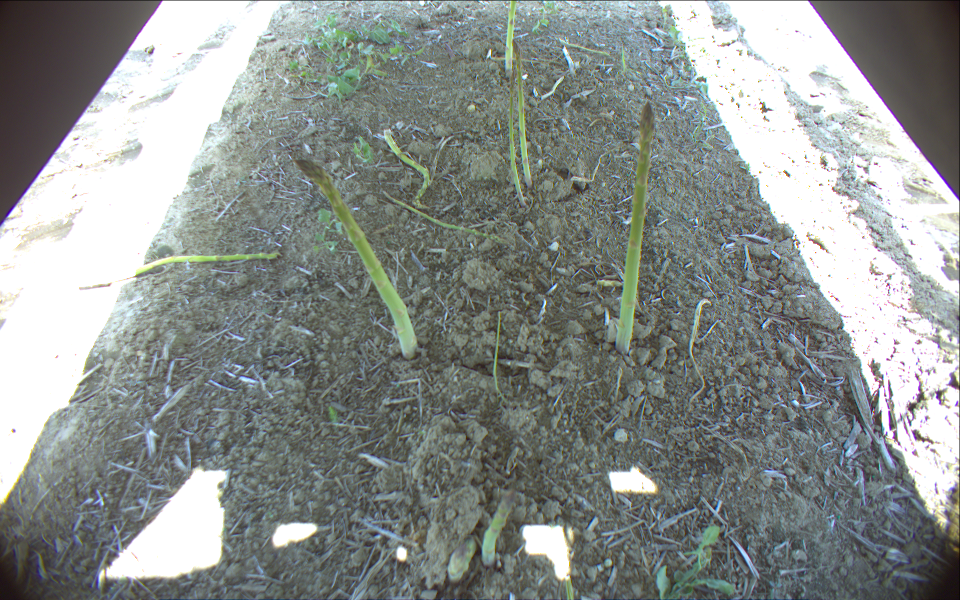aspa: (295, 158, 418, 359), (614, 103, 656, 352), (76, 251, 279, 290), (380, 191, 498, 241), (503, 71, 528, 203), (480, 490, 521, 569), (512, 41, 533, 184), (447, 539, 476, 583), (554, 39, 611, 56), (505, 1, 516, 76)
